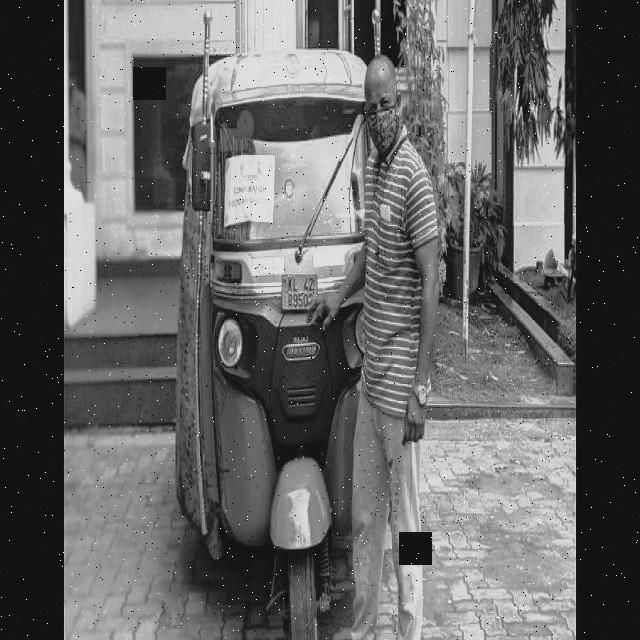Auto-Rickshaw: (174, 48, 414, 640)
